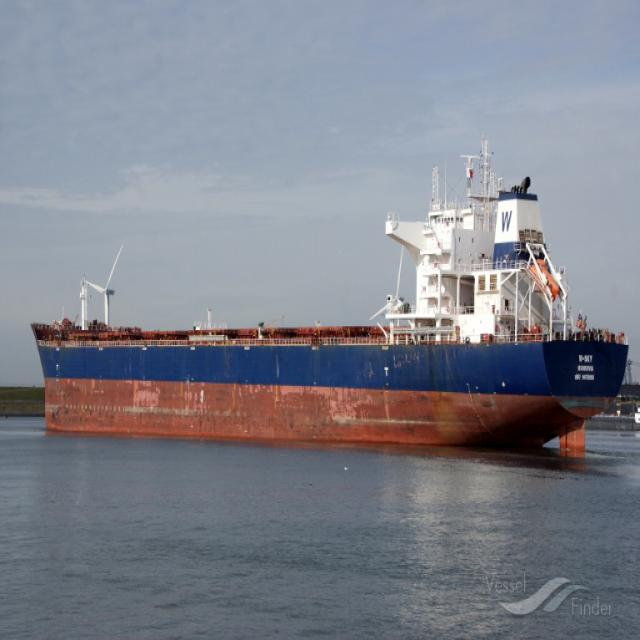OCR: (566, 352, 603, 394)
